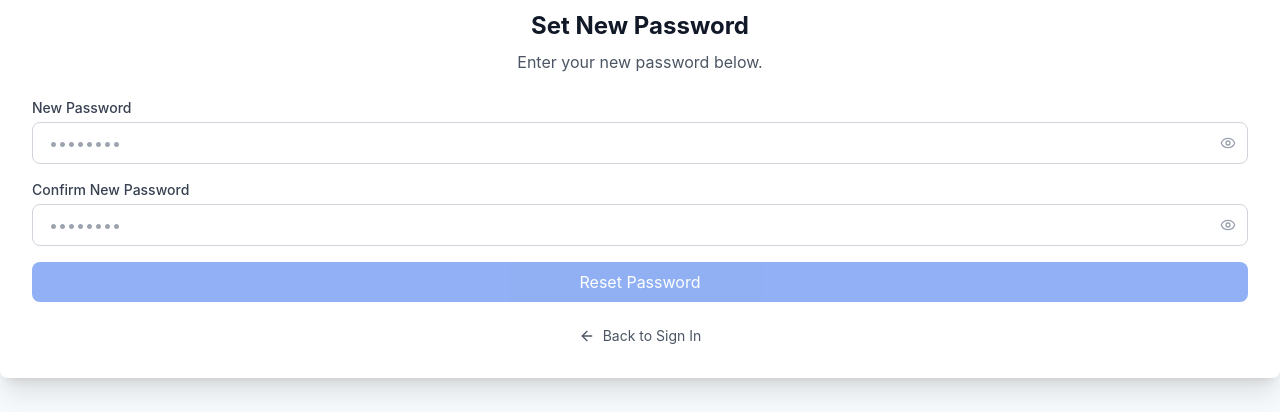
Test: ResetPasswordPage › toggles password visibility
Click the button named "show password" at [1228, 143], box [1220, 135, 1236, 151]
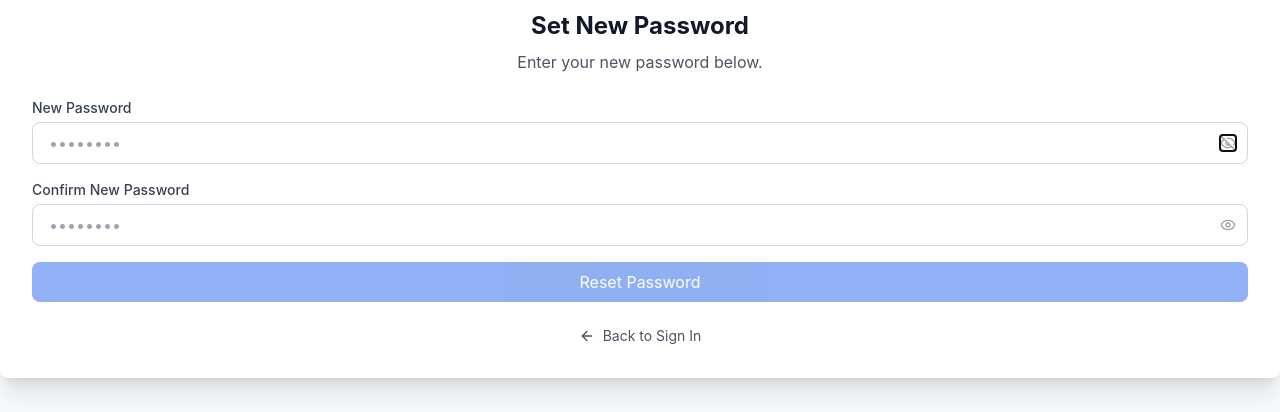
expect the button named "hide password" is shown: met, box [1220, 135, 1236, 151]
